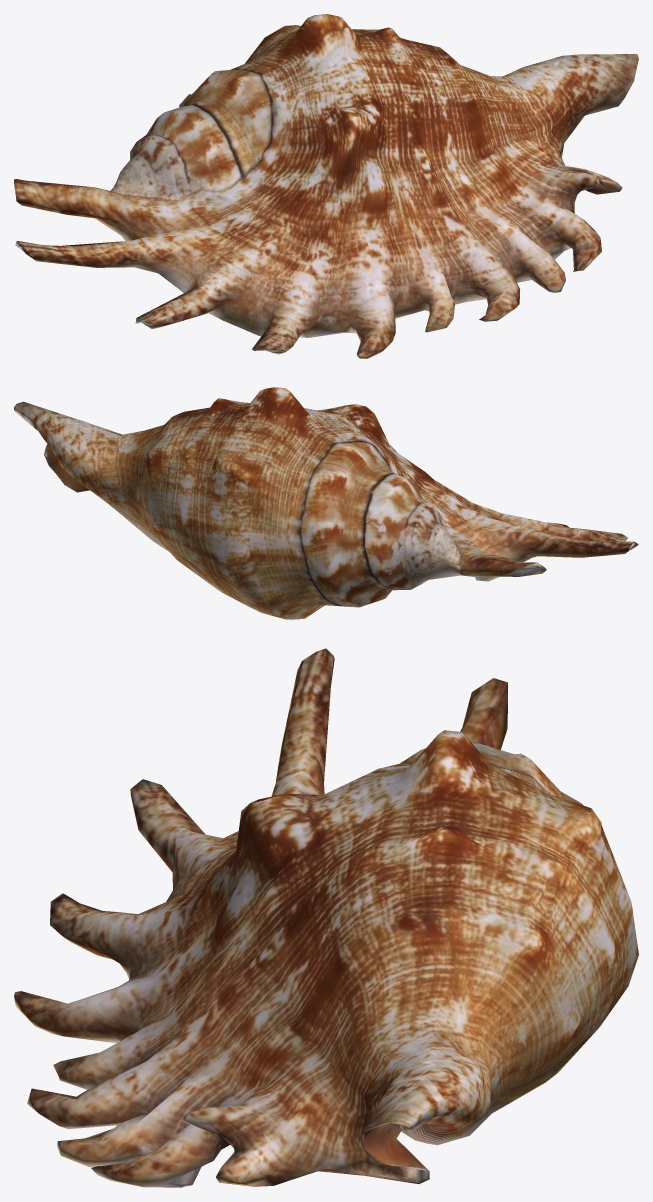
The model's file is shell-0-near.glb.
The picture shows the model from 3 angles, top to bottom: view 1: azimuth 30°, elevation 25°; view 2: azimuth 150°, elevation 25°; view 3: azimuth 270°, elevation 25°; orthographic projection. The views are drawn at different scales.
Parts seen in each view (by area): view 1: lambis_shell; view 2: lambis_shell; view 3: lambis_shell.
Boxes of the visible parts, x1=… form: lambis_shell: x1=14, y1=14, x2=638, y2=358; lambis_shell: x1=14, y1=387, x2=638, y2=619; lambis_shell: x1=14, y1=648, x2=638, y2=1187.
Size of the model in its own units: 0.1387 by 0.0464 by 0.0744.
1 material, 1 textured.
